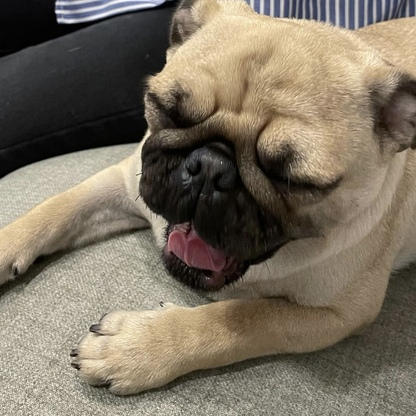Pug: (1, 1, 416, 398)
